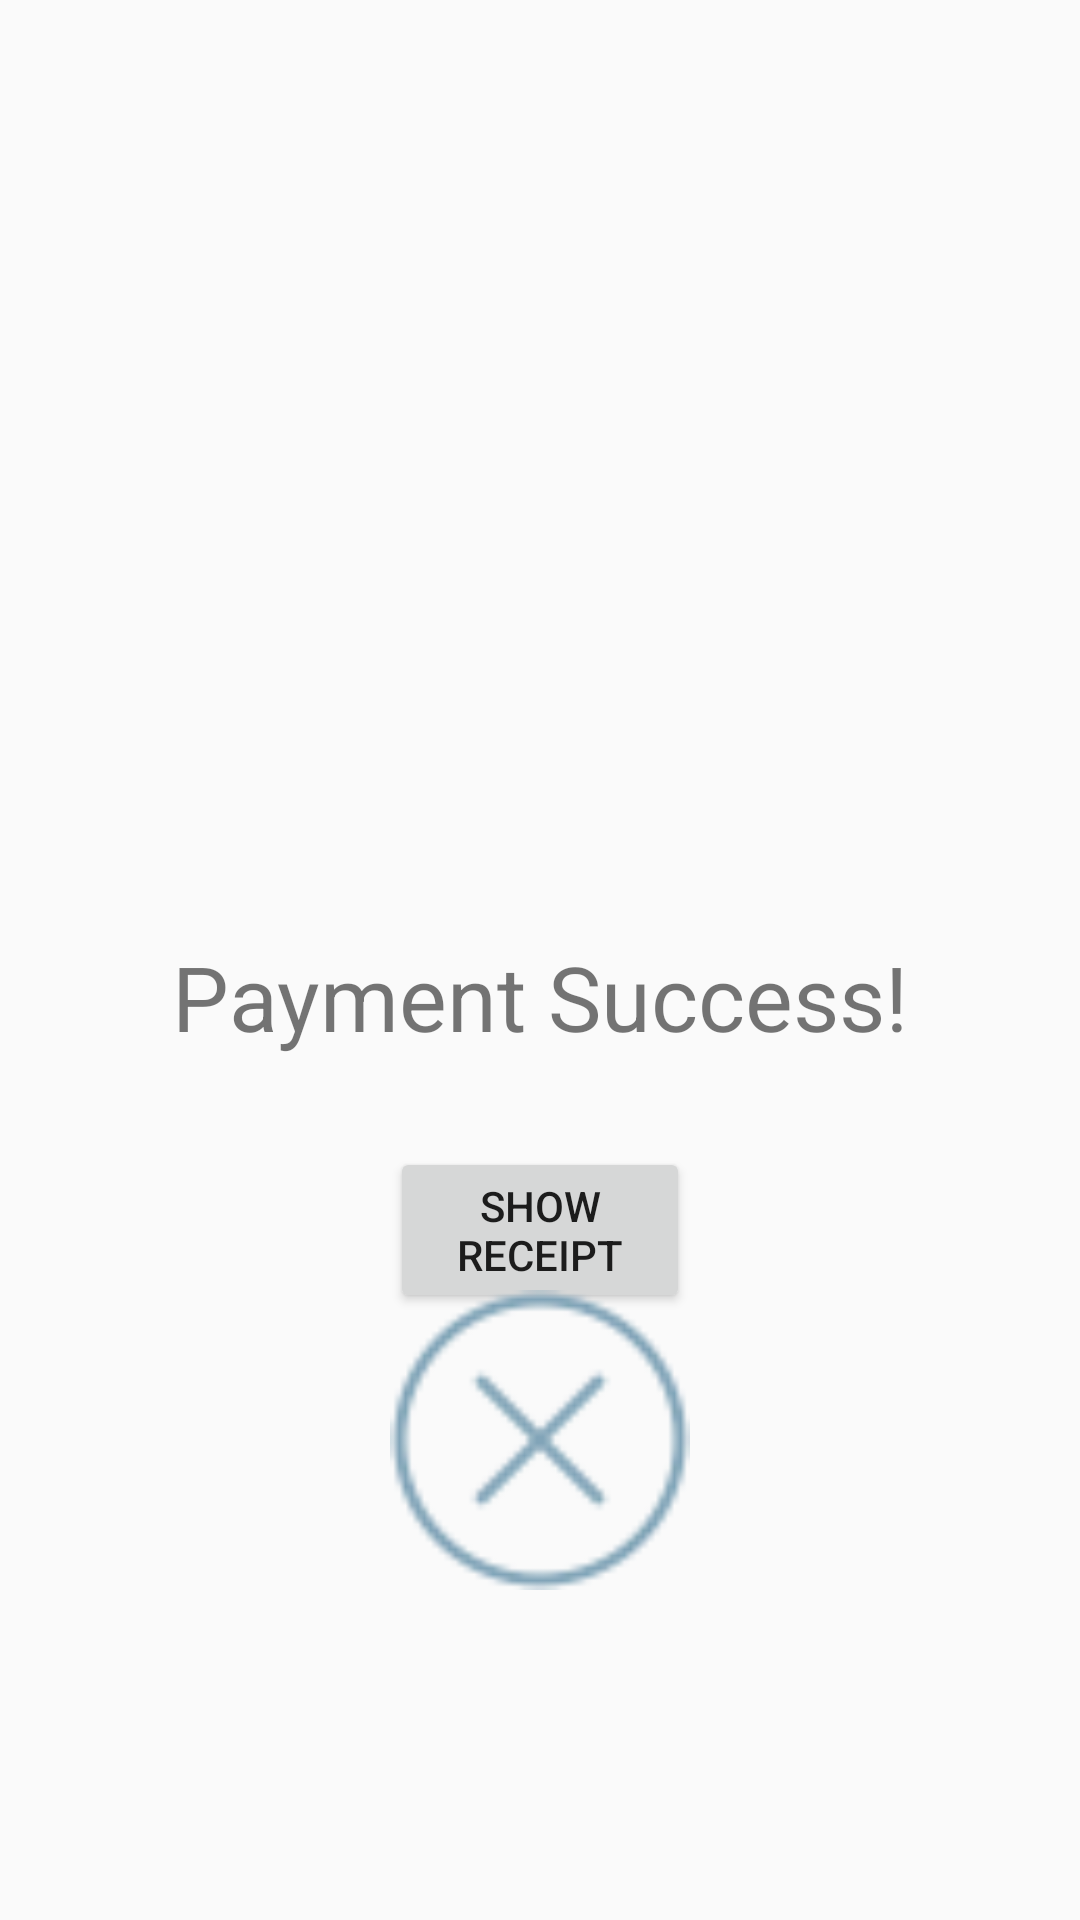

Where to tap for icons on this 1080px×1920px app screen, as [x,y]:
cross: [540,1440]
